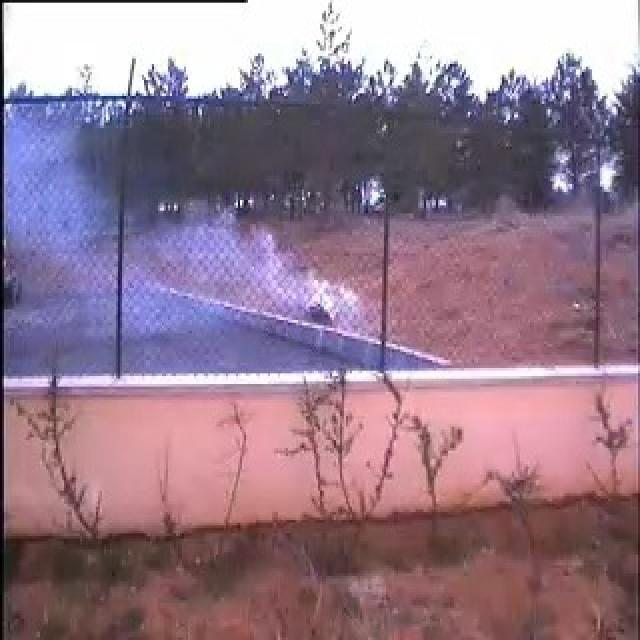smoke: (44, 136, 362, 328)
